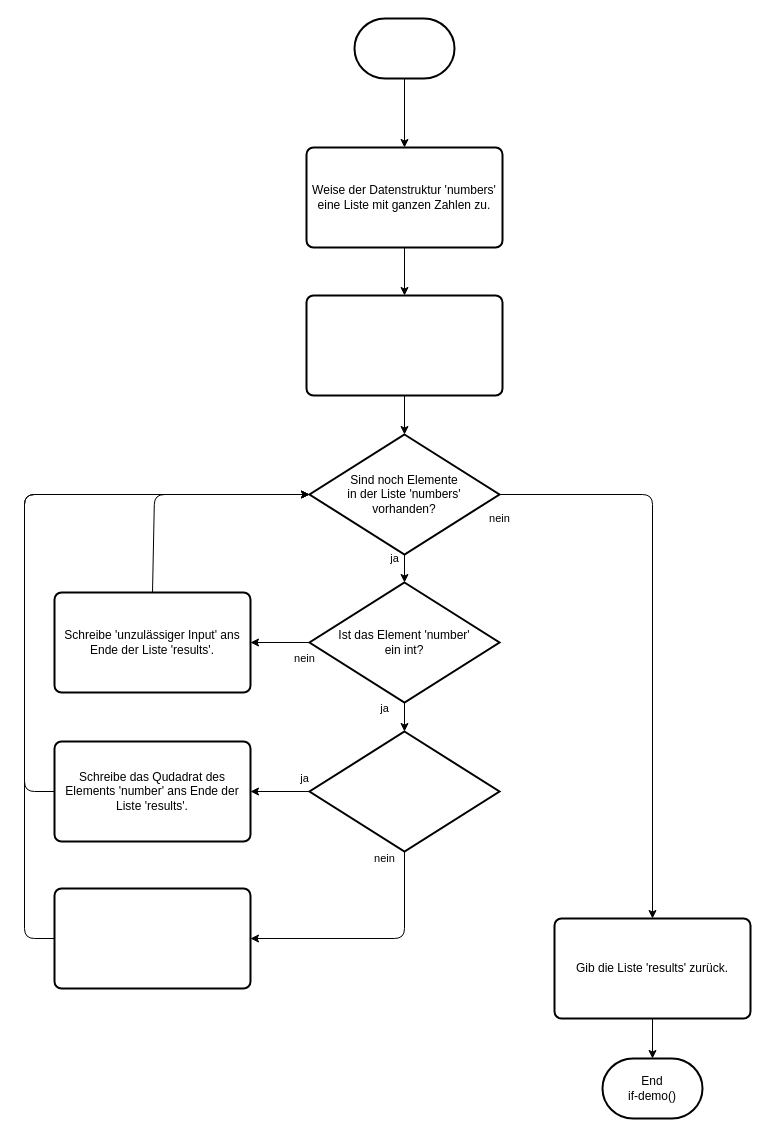
The diagram is 769 pixels wide and 1136 high, and some of its shapes have lost their labels. The shapes that lost their labels are listed below. From the top down, each one's centre as x and y in pixels, then its label:
(x=404, y=48): Start if-demo()
(x=404, y=345): Beginne über die Liste 'numbers' zu iterieren.
(x=404, y=791): Ist das Element 'number' durch 2 teilbar?
(x=152, y=938): Schreibe die dritte Potenz des Elements 'number' ans Ende der Liste 'results'.
